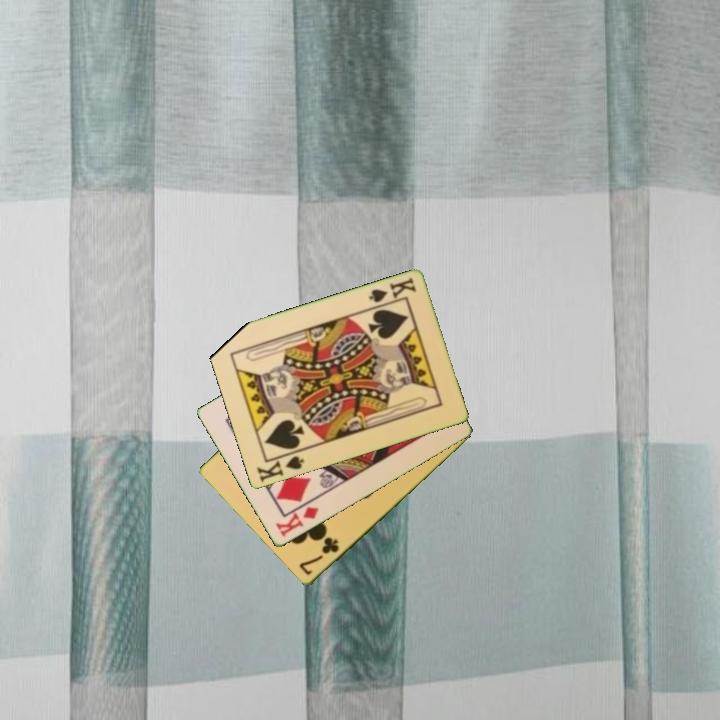7c: (296, 534, 342, 579)
Kd: (272, 503, 321, 540)
Ks: (253, 447, 307, 485), (365, 274, 419, 306)
